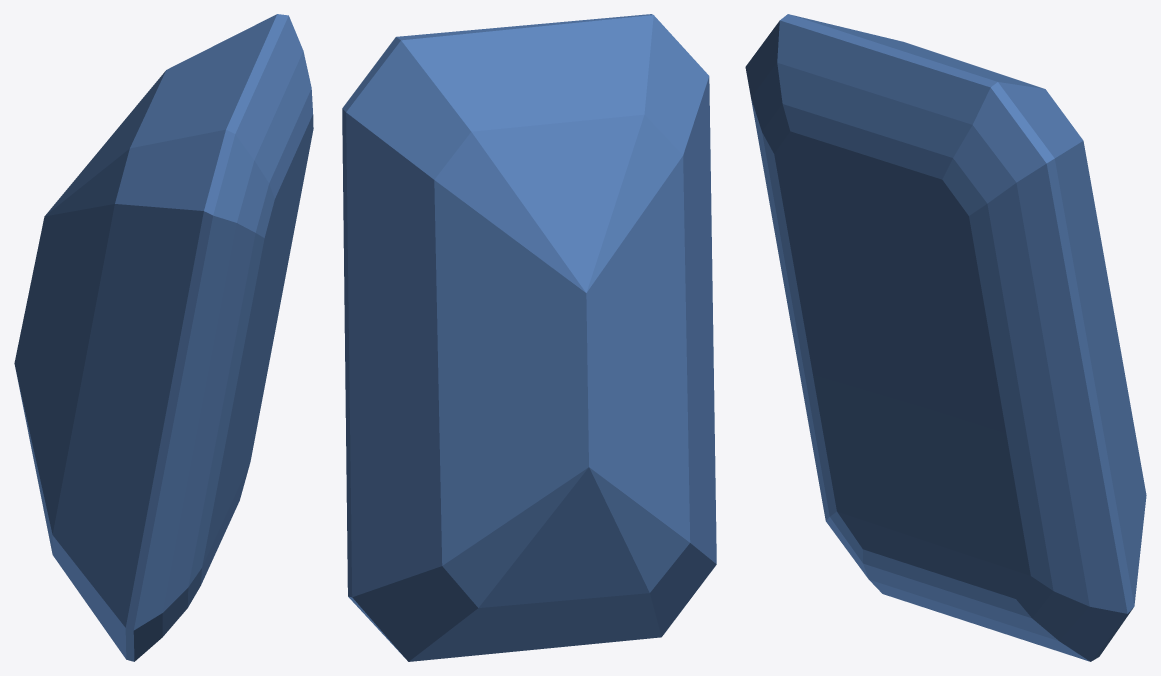
The model's file is TR3_8shapes_Emerald_Classic_Stone.001 2.glb.
The picture shows the model from 3 angles, left to right: view 1: azimuth 30°, elevation 25°; view 2: azimuth 150°, elevation 25°; view 3: azimuth 270°, elevation 25°; orthographic projection. The views are drawn at different scales.
Parts seen in each view (by area): view 1: TR3_8shapes_Emerald_Classic_Stone.001; view 2: TR3_8shapes_Emerald_Classic_Stone.001; view 3: TR3_8shapes_Emerald_Classic_Stone.001.
Boxes of the visible parts, <box> form: TR3_8shapes_Emerald_Classic_Stone.001: <box>14,14,313,661</box>; TR3_8shapes_Emerald_Classic_Stone.001: <box>342,14,716,661</box>; TR3_8shapes_Emerald_Classic_Stone.001: <box>745,14,1146,661</box>.
Bounding box in the file's own units: 0.368 × 0.6911 × 0.4074.
